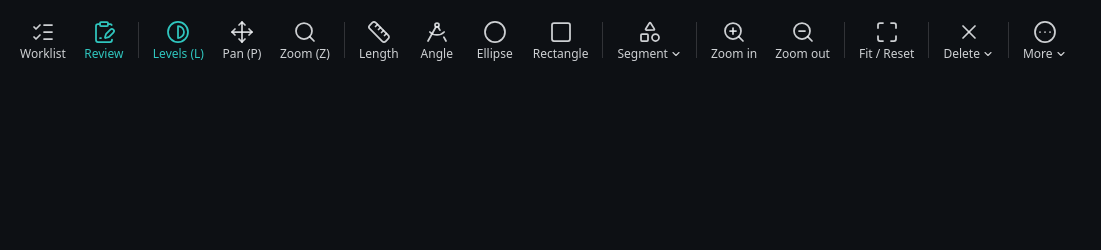
it: Measurement tools in the toolbar › Delete selected runs when something is selected; Esc closes back to the button
Click the button "Delete". click: (969, 40)
box: [935,12,1002,68]
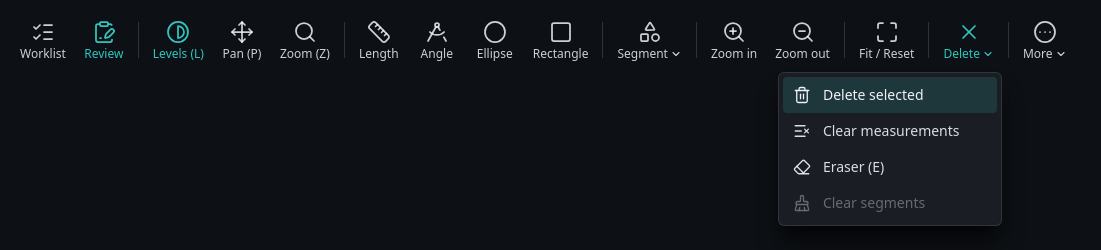
Click the menu item "Delete selected". click: (890, 95)
box: [783,77,997,113]
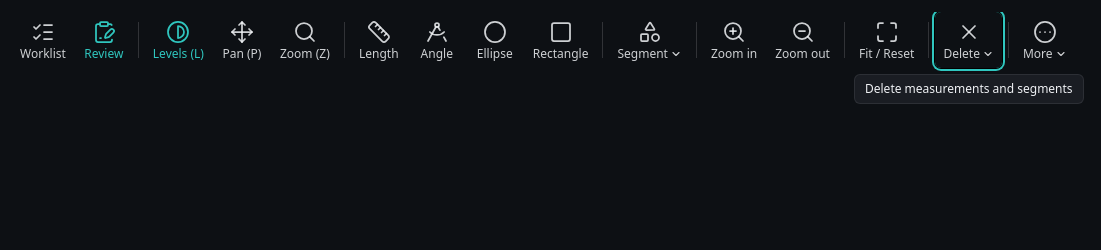
Click the button "Delete". click: (969, 40)
box: [935,12,1002,68]
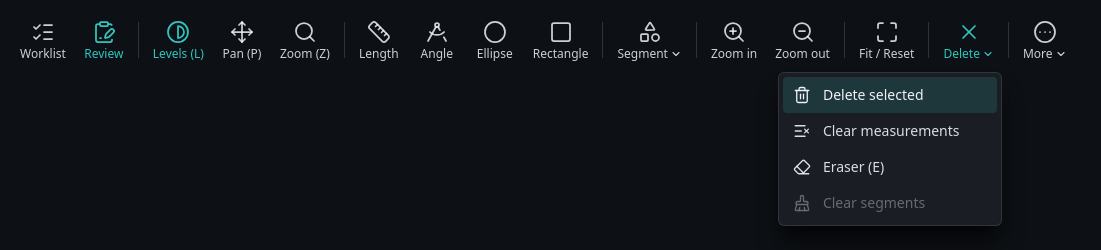
Press Escape
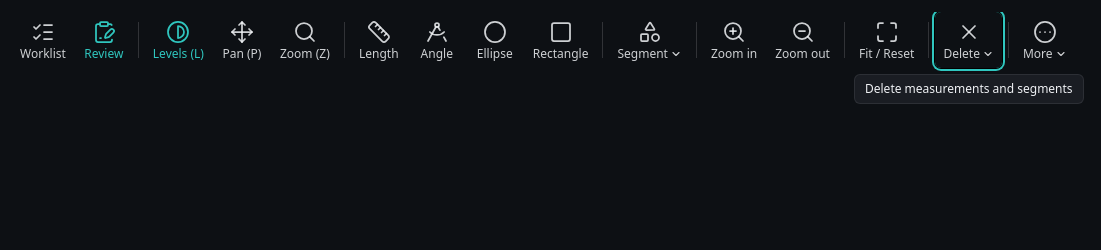
Result: the menu is gone
